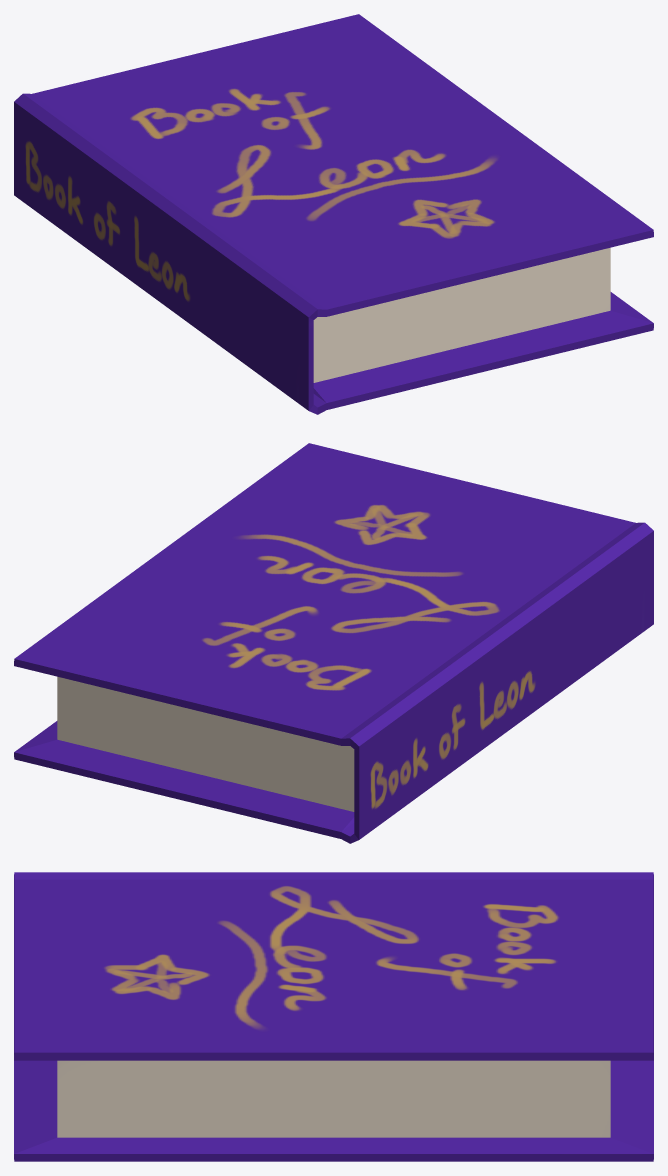
Rendered from book1.glb.
3 views of the same model, one above another, from view 1: azimuth 30°, elevation 25°; view 2: azimuth 150°, elevation 25°; view 3: azimuth 270°, elevation 25° (orthographic). The views are drawn at different scales.
Visible parts, largest first — view 1: Cube.002; view 2: Cube.002; view 3: Cube.002.
Part boxes in pixels (x1=…): Cube.002: x1=14, y1=14, x2=653, y2=414; Cube.002: x1=14, y1=443, x2=653, y2=843; Cube.002: x1=14, y1=872, x2=653, y2=1161.
Size of the model in its own units: 1.56 by 0.4565 by 2.31.
Materials: 1 (1 with a texture image).
